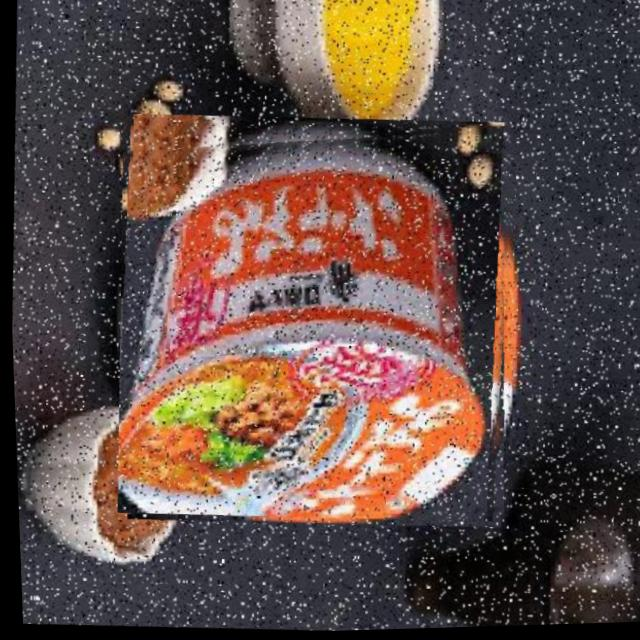Miscellaneous: (101, 111, 525, 534)
